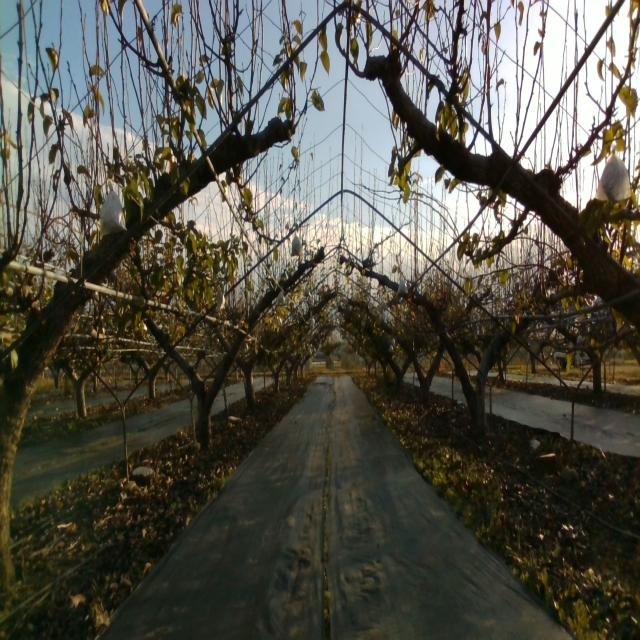pearbags: (594, 138, 631, 202), (97, 180, 126, 240), (288, 230, 302, 258), (396, 276, 409, 295)
